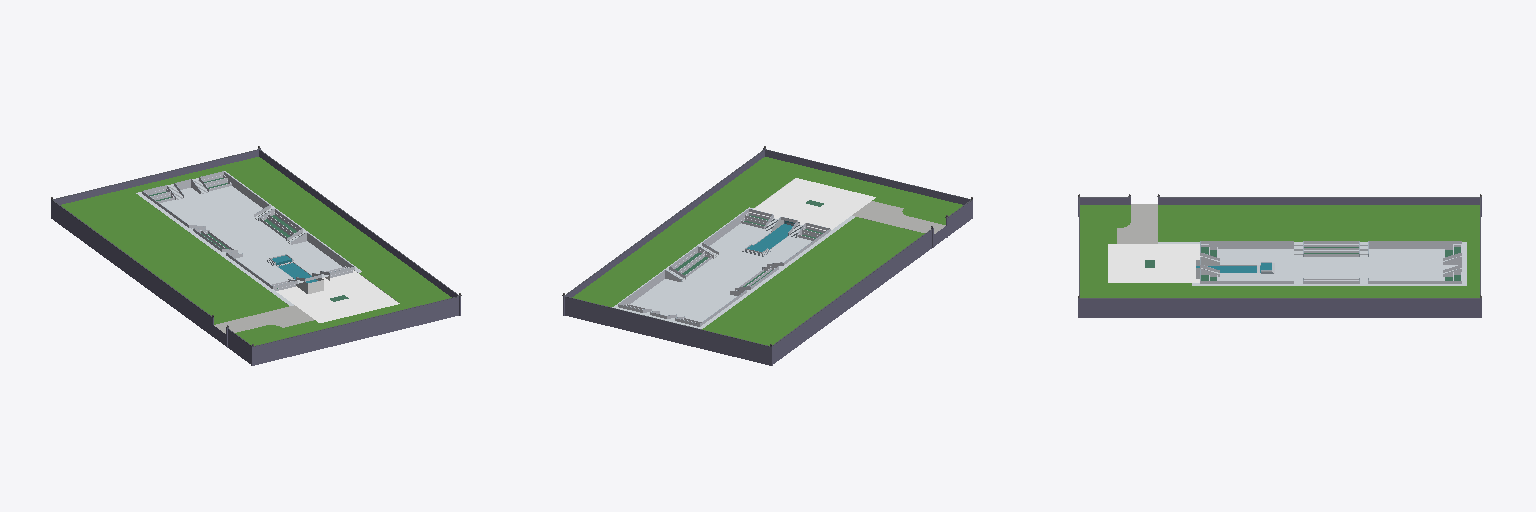
The model's file is LANDSCAPE.obj.
The picture shows the model from 3 angles: view 1: azimuth 30°, elevation 25°; view 2: azimuth 150°, elevation 25°; view 3: azimuth 270°, elevation 25°; orthographic projection.
Parts seen in each view (by area): view 1: LANDSCAPE-COM-Group_23-39780-Vegetation_Grass_Pattern, LANDSCAPE-COM-Group_23-39780-Material8, LANDSCAPE-COM-Group_23-39780-Plaster_Blocks, LANDSCAPE-COM-Group_23-39780-Brick_Rough_Dark, LANDSCAPE-COM-Group_23-39780-Default_Material, LANDSCAPE-COM-Group_23-39780-Concrete_Aggregate_Small, LANDSCAPE-COM-Group_23-39780-Stone_Granite_Polished; view 2: LANDSCAPE-COM-Group_23-39780-Vegetation_Grass_Pattern, LANDSCAPE-COM-Group_23-39780-Material8, LANDSCAPE-COM-Group_23-39780-Plaster_Blocks, LANDSCAPE-COM-Group_23-39780-Default_Material, LANDSCAPE-COM-Group_23-39780-Brick_Rough_Dark, LANDSCAPE-COM-Group_23-39780-Concrete_Aggregate_Small, LANDSCAPE-COM-Group_23-39780-Stone_Granite_Polished; view 3: LANDSCAPE-COM-Group_23-39780-Vegetation_Grass_Pattern, LANDSCAPE-COM-Group_23-39780-Material8, LANDSCAPE-COM-Group_23-39780-Plaster_Blocks, LANDSCAPE-COM-Group_23-39780-Brick_Rough_Dark, LANDSCAPE-COM-Group_23-39780-Default_Material, LANDSCAPE-COM-Group_23-39780-Concrete_Aggregate_Small, LANDSCAPE-COM-Group_23-39780-Stone_Granite_Polished, LANDSCAPE-COM-Group_23-39780-Vegetation_Ivy_Hedera.
Part boxes in pixels (x1,y1,x2,y2): LANDSCAPE-COM-Group_23-39780-Vegetation_Grass_Pattern: (61,157,451,345); LANDSCAPE-COM-Group_23-39780-Material8: (51,149,460,365); LANDSCAPE-COM-Group_23-39780-Plaster_Blocks: (136,171,361,305); LANDSCAPE-COM-Group_23-39780-Brick_Rough_Dark: (142,171,354,290); LANDSCAPE-COM-Group_23-39780-Default_Material: (249,270,399,329); LANDSCAPE-COM-Group_23-39780-Concrete_Aggregate_Small: (214,305,313,333); LANDSCAPE-COM-Group_23-39780-Stone_Granite_Polished: (51,148,461,346); LANDSCAPE-COM-Group_23-39780-Vegetation_Grass_Pattern: (572,157,962,345); LANDSCAPE-COM-Group_23-39780-Material8: (563,149,972,365); LANDSCAPE-COM-Group_23-39780-Plaster_Blocks: (612,207,854,328); LANDSCAPE-COM-Group_23-39780-Default_Material: (750,178,875,230); LANDSCAPE-COM-Group_23-39780-Brick_Rough_Dark: (618,209,830,326); LANDSCAPE-COM-Group_23-39780-Concrete_Aggregate_Small: (852,201,945,233); LANDSCAPE-COM-Group_23-39780-Stone_Granite_Polished: (562,148,972,346); LANDSCAPE-COM-Group_23-39780-Vegetation_Grass_Pattern: (1080,205,1479,297); LANDSCAPE-COM-Group_23-39780-Material8: (1078,197,1481,317); LANDSCAPE-COM-Group_23-39780-Plaster_Blocks: (1158,242,1466,285); LANDSCAPE-COM-Group_23-39780-Brick_Rough_Dark: (1200,241,1461,283); LANDSCAPE-COM-Group_23-39780-Default_Material: (1108,244,1200,282); LANDSCAPE-COM-Group_23-39780-Concrete_Aggregate_Small: (1117,204,1157,243); LANDSCAPE-COM-Group_23-39780-Stone_Granite_Polished: (1079,196,1480,298); LANDSCAPE-COM-Group_23-39780-Vegetation_Ivy_Hedera: (1145,247,1460,280).
Bounding box in the file's own units: 78.94 × 7.96 × 132.